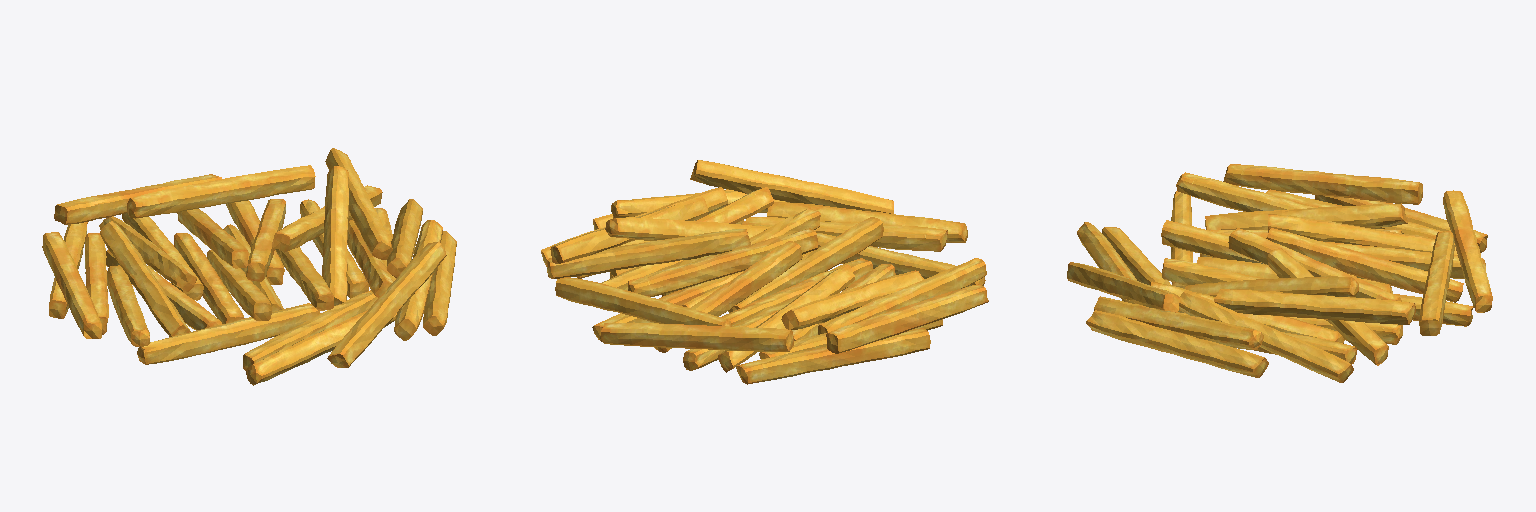
3 views of the same model, side by side, from view 1: azimuth 30°, elevation 25°; view 2: azimuth 150°, elevation 25°; view 3: azimuth 270°, elevation 25° (orthographic).
Visible parts, largest first — view 1: frenchfry.016_Cube.048; view 2: frenchfry.016_Cube.048; view 3: frenchfry.016_Cube.048.
Part boxes in pixels (bbox=[...]): frenchfry.016_Cube.048: bbox=[42, 148, 456, 385]; frenchfry.016_Cube.048: bbox=[541, 160, 988, 384]; frenchfry.016_Cube.048: bbox=[1067, 164, 1492, 382].
Bounding box in the file's own units: 20.41 × 3.52 × 19.16.
Materials: 1 (1 with a texture image).